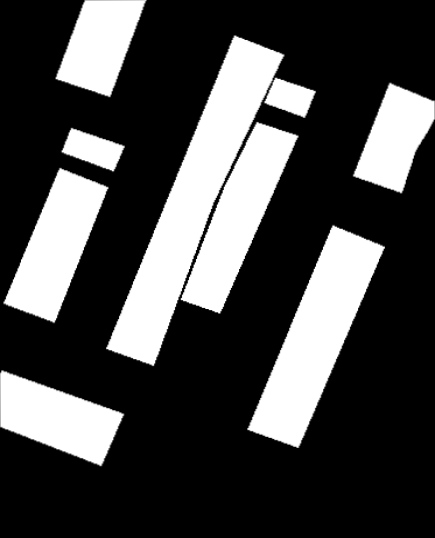parkingspot: (106, 35, 316, 366), (247, 225, 385, 448), (181, 122, 299, 314), (3, 168, 108, 323), (0, 370, 124, 466), (353, 83, 435, 193), (56, 0, 146, 97), (62, 128, 125, 171)
